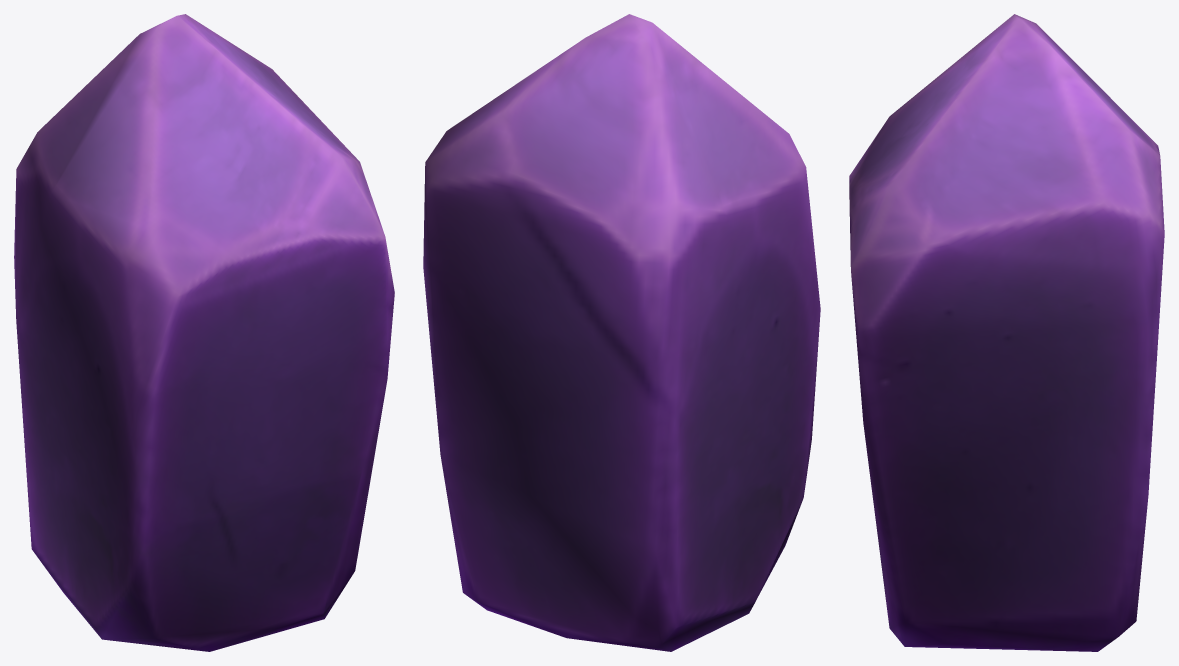
File: SM_Gem_Amethyst_005.fbx
3 views of the same model, side by side, from view 1: azimuth 30°, elevation 25°; view 2: azimuth 150°, elevation 25°; view 3: azimuth 270°, elevation 25° (orthographic).
Visible parts, largest first — view 1: SM_Gem_Amethyst_005; view 2: SM_Gem_Amethyst_005; view 3: SM_Gem_Amethyst_005.
Boxes of the visible parts, x1,y1,x2,y2 form: SM_Gem_Amethyst_005: [14, 14, 394, 651]; SM_Gem_Amethyst_005: [423, 14, 820, 651]; SM_Gem_Amethyst_005: [849, 14, 1164, 651].
Size of the model in its own units: 14.91 by 32.38 by 15.85.
